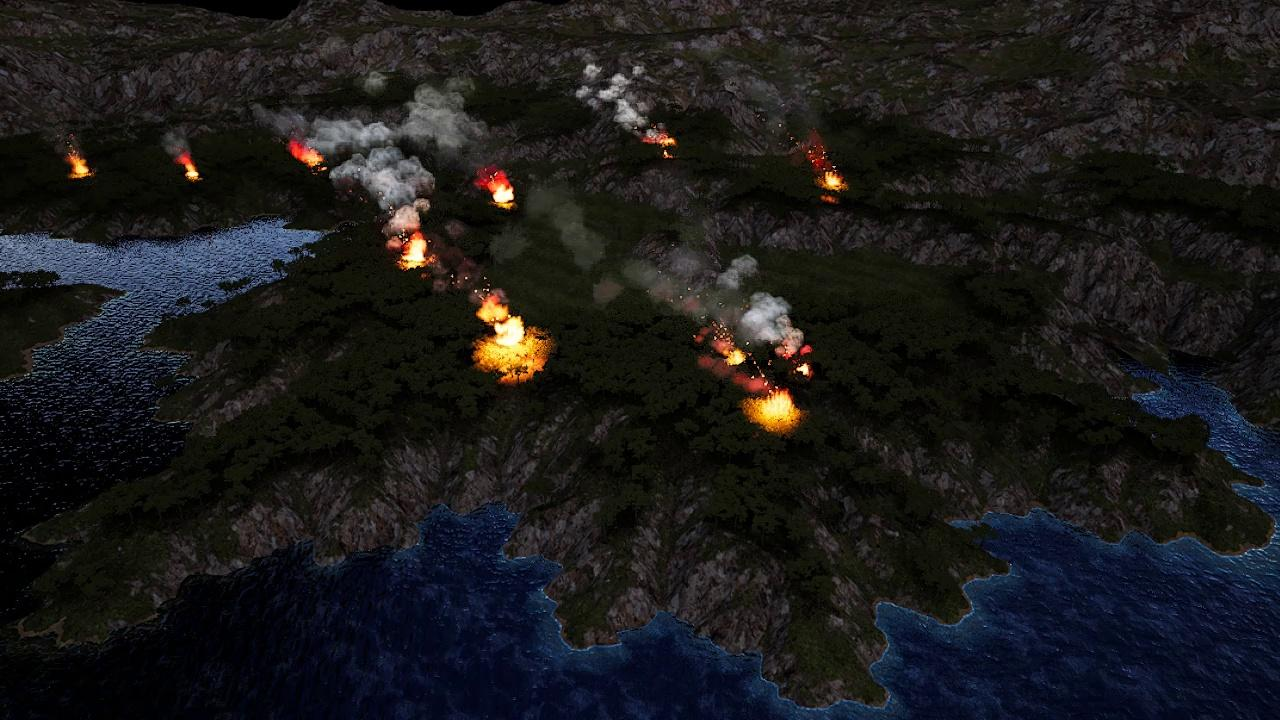fire: (470, 302, 540, 373), (803, 136, 846, 191), (752, 388, 799, 425), (645, 128, 685, 160), (398, 232, 431, 268), (482, 174, 515, 209), (288, 142, 324, 172), (67, 153, 93, 179), (181, 155, 202, 183)
smoke: (263, 69, 482, 233), (627, 245, 801, 352), (576, 59, 648, 135)
